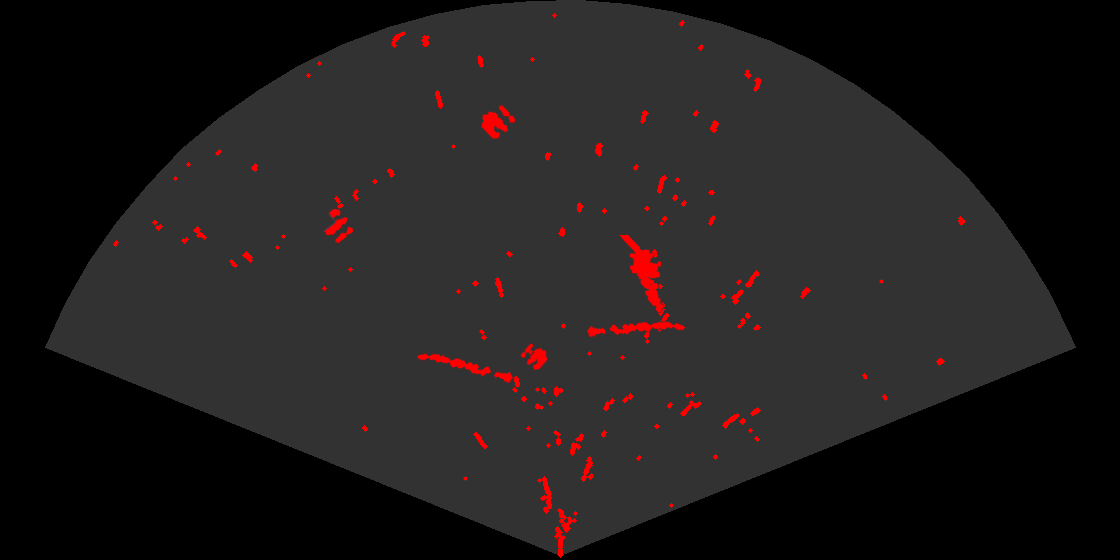ball: (480, 104, 517, 140), (323, 207, 355, 245), (519, 342, 549, 372)
chain: (415, 352, 515, 384), (585, 320, 687, 338)
frogman: (618, 235, 665, 314)
